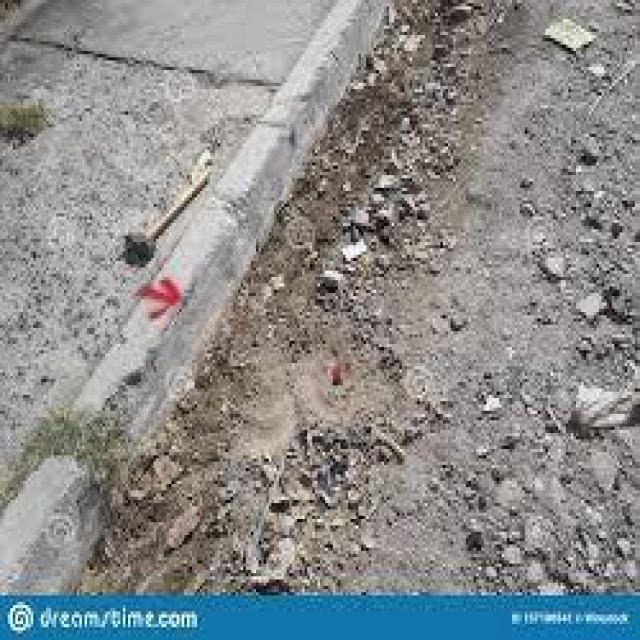curb: (2, 1, 395, 592)
